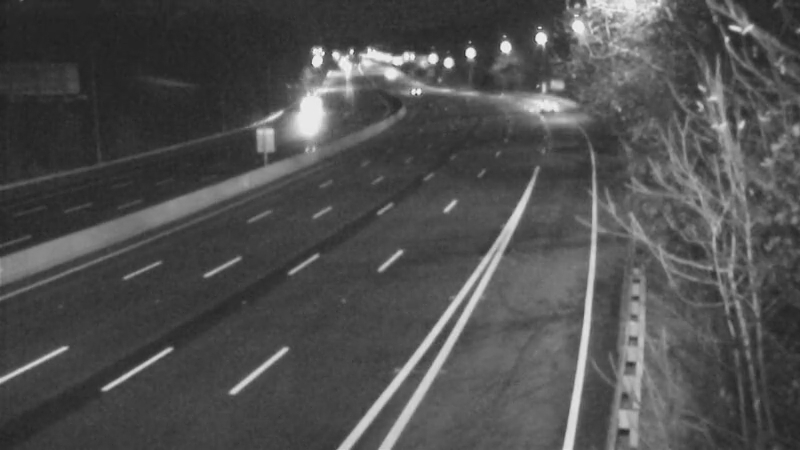vehicle: (389, 60, 439, 110), (516, 86, 566, 136), (274, 88, 324, 138)
